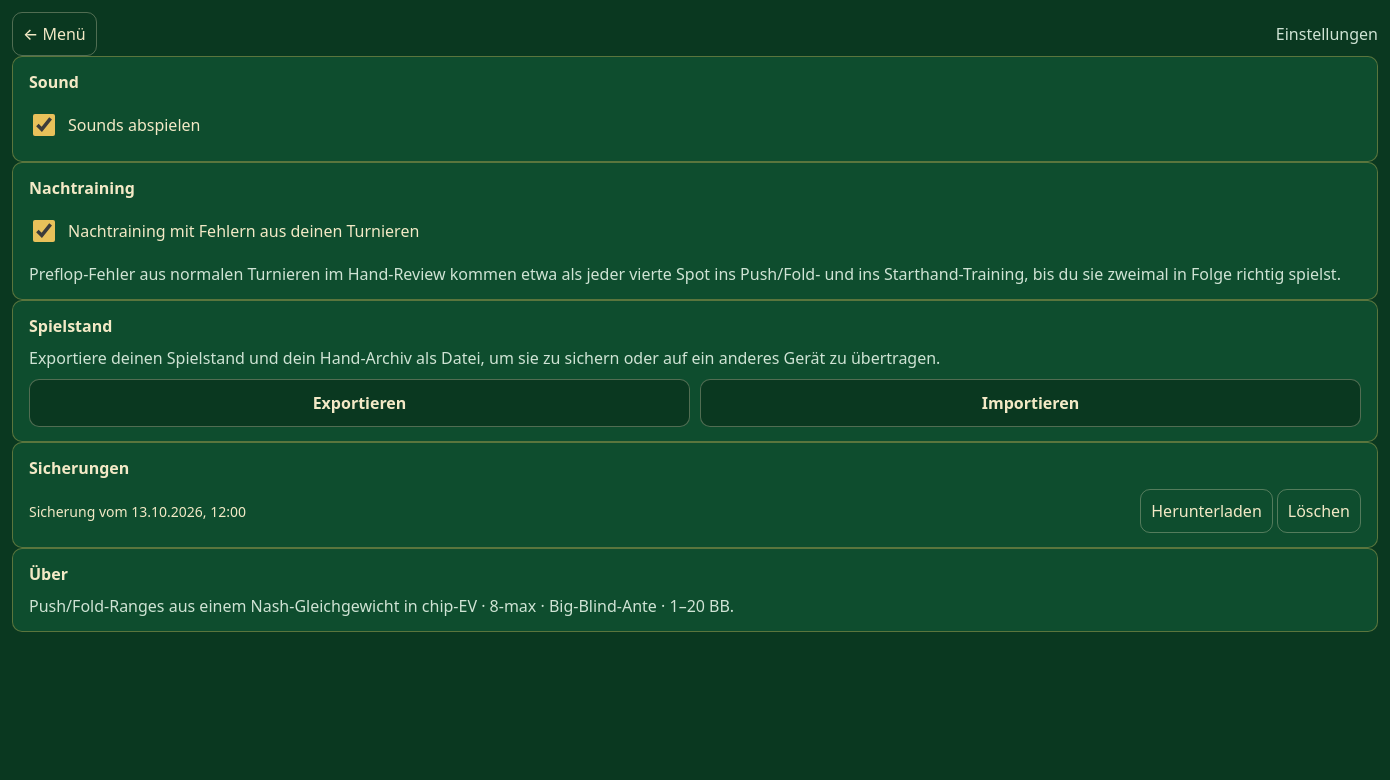
Test: SettingsScreen › reports a failed backup download
Click the button "Herunterladen" at (1207, 511), box x1=1140 y1=489 x2=1273 y2=533
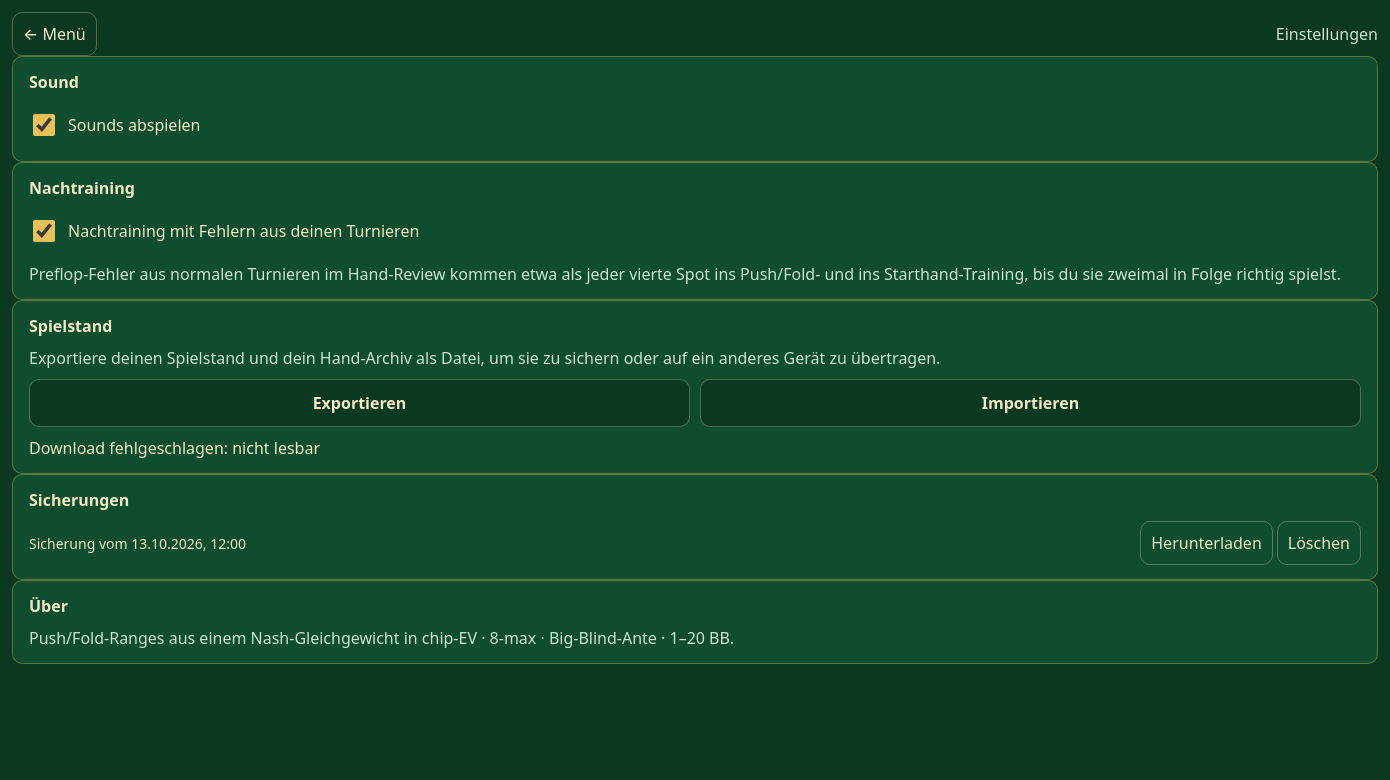
Check: the text "Download fehlgeschlagen: nicht lesbar" is shown, box x1=29 y1=437 x2=320 y2=459
